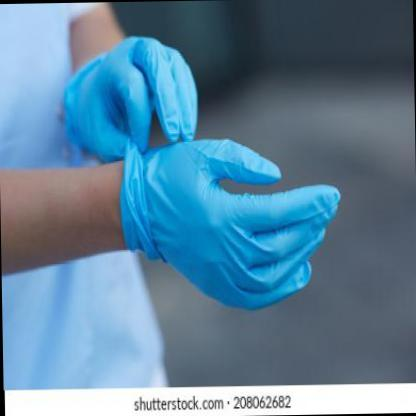Gloves: (120, 134, 344, 311), (61, 34, 200, 164)
